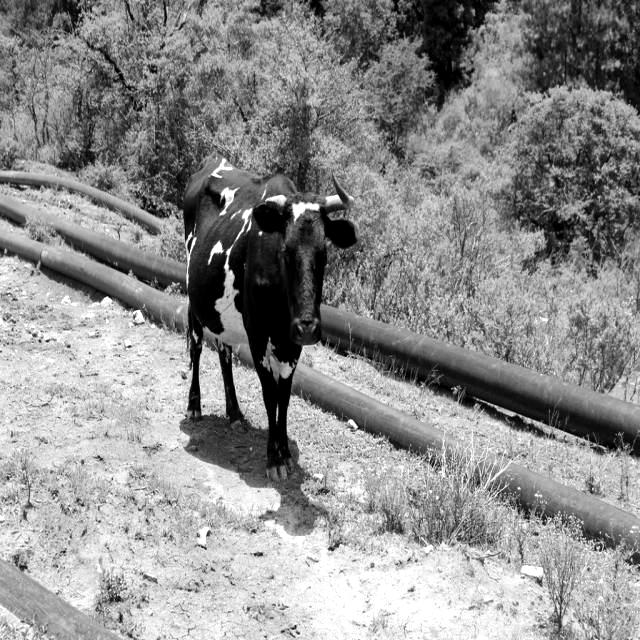COW: (184, 156, 356, 479)
